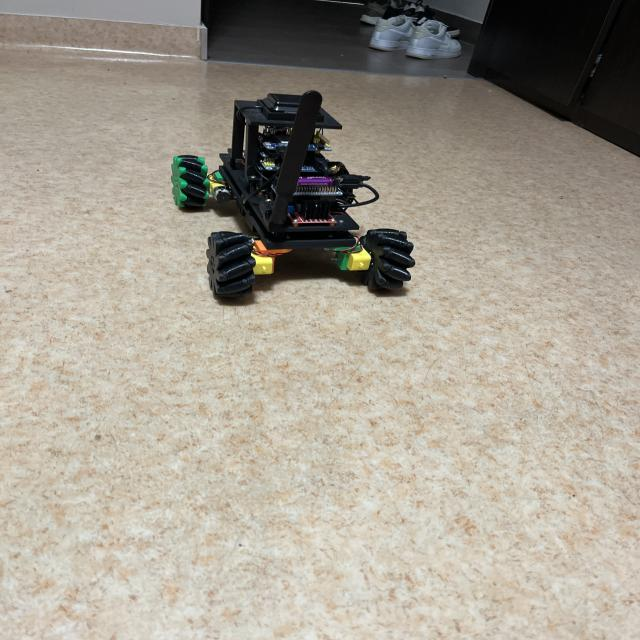robot: (171, 91, 415, 297)
